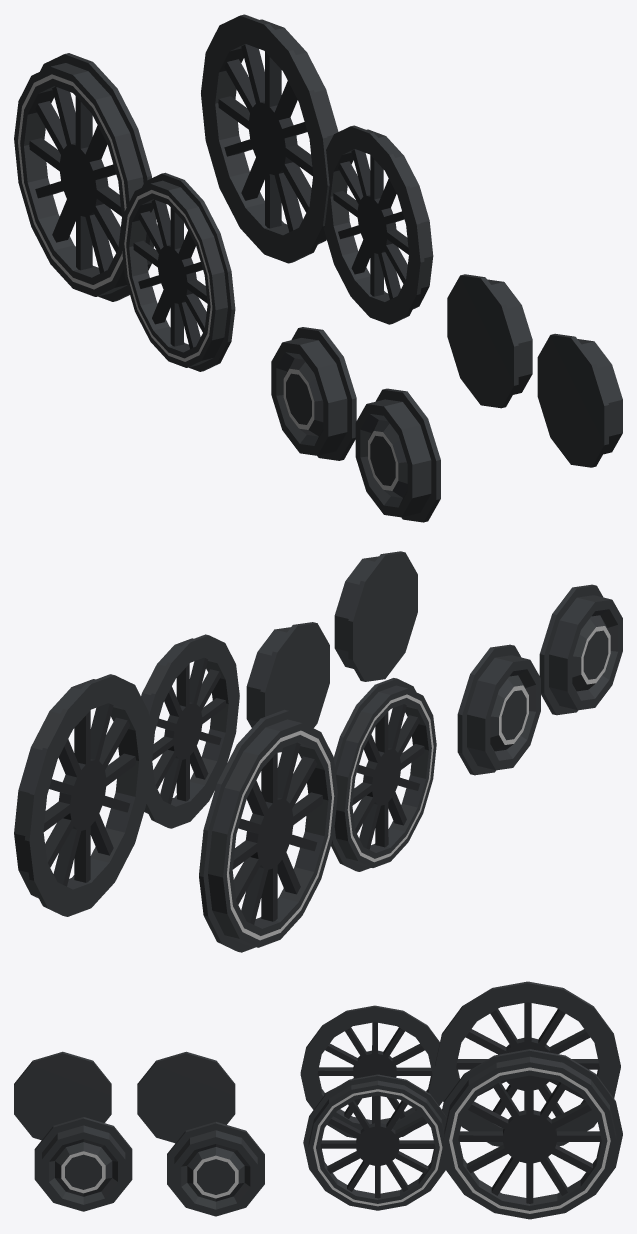
The model's file is Wheels.fbx.
The picture shows the model from 3 angles, top to bottom: view 1: azimuth 30°, elevation 25°; view 2: azimuth 150°, elevation 25°; view 3: azimuth 270°, elevation 25°; orthographic projection. The views are drawn at different scales.
Parts seen in each view (by area): view 1: SM_Veh_Train_01_Wheel_R_01, SM_Veh_Train_01_Wheel_L_01, SM_Veh_Train_01_Wheel_L_02, SM_Veh_Train_01_Wheel_R_02, SM_Veh_Train_01_Wheel_R_03, SM_Veh_Train_01_Wheel_R_04, SM_Veh_Train_01_Wheel_L_04, SM_Veh_Train_01_Wheel_L_03; view 2: SM_Veh_Train_01_Wheel_R_01, SM_Veh_Train_01_Wheel_L_01, SM_Veh_Train_01_Wheel_L_02, SM_Veh_Train_01_Wheel_R_02, SM_Veh_Train_01_Wheel_L_03, SM_Veh_Train_01_Wheel_R_04, SM_Veh_Train_01_Wheel_L_04, SM_Veh_Train_01_Wheel_R_03; view 3: SM_Veh_Train_01_Wheel_R_01, SM_Veh_Train_01_Wheel_R_02, SM_Veh_Train_01_Wheel_L_01, SM_Veh_Train_01_Wheel_L_02, SM_Veh_Train_01_Wheel_R_04, SM_Veh_Train_01_Wheel_R_03, SM_Veh_Train_01_Wheel_L_03, SM_Veh_Train_01_Wheel_L_04.
Boxes of the visible parts, x1,y1,x2,y2 form: SM_Veh_Train_01_Wheel_R_01: (201,14,338,263); SM_Veh_Train_01_Wheel_L_01: (14,53,156,301); SM_Veh_Train_01_Wheel_L_02: (121,172,235,371); SM_Veh_Train_01_Wheel_R_02: (323,125,433,324); SM_Veh_Train_01_Wheel_R_03: (447,274,532,408); SM_Veh_Train_01_Wheel_R_04: (537,333,622,467); SM_Veh_Train_01_Wheel_L_04: (355,388,440,522); SM_Veh_Train_01_Wheel_L_03: (271,327,356,460); SM_Veh_Train_01_Wheel_R_01: (14,674,152,916); SM_Veh_Train_01_Wheel_L_01: (199,709,337,952); SM_Veh_Train_01_Wheel_L_02: (331,678,436,871); SM_Veh_Train_01_Wheel_R_02: (141,634,239,828); SM_Veh_Train_01_Wheel_L_03: (457,644,540,775); SM_Veh_Train_01_Wheel_R_04: (334,551,417,681); SM_Veh_Train_01_Wheel_L_04: (539,584,622,715); SM_Veh_Train_01_Wheel_R_03: (246,622,329,752); SM_Veh_Train_01_Wheel_R_01: (442,1049,622,1219); SM_Veh_Train_01_Wheel_R_02: (303,1074,447,1210); SM_Veh_Train_01_Wheel_L_01: (435,981,620,1146); SM_Veh_Train_01_Wheel_L_02: (300,1005,442,1138); SM_Veh_Train_01_Wheel_R_04: (34,1117,132,1211); SM_Veh_Train_01_Wheel_R_03: (167,1122,264,1216); SM_Veh_Train_01_Wheel_L_03: (137,1051,235,1143); SM_Veh_Train_01_Wheel_L_04: (14,1051,111,1140).
Size of the model in its own units: 290 by 286 by 914.
